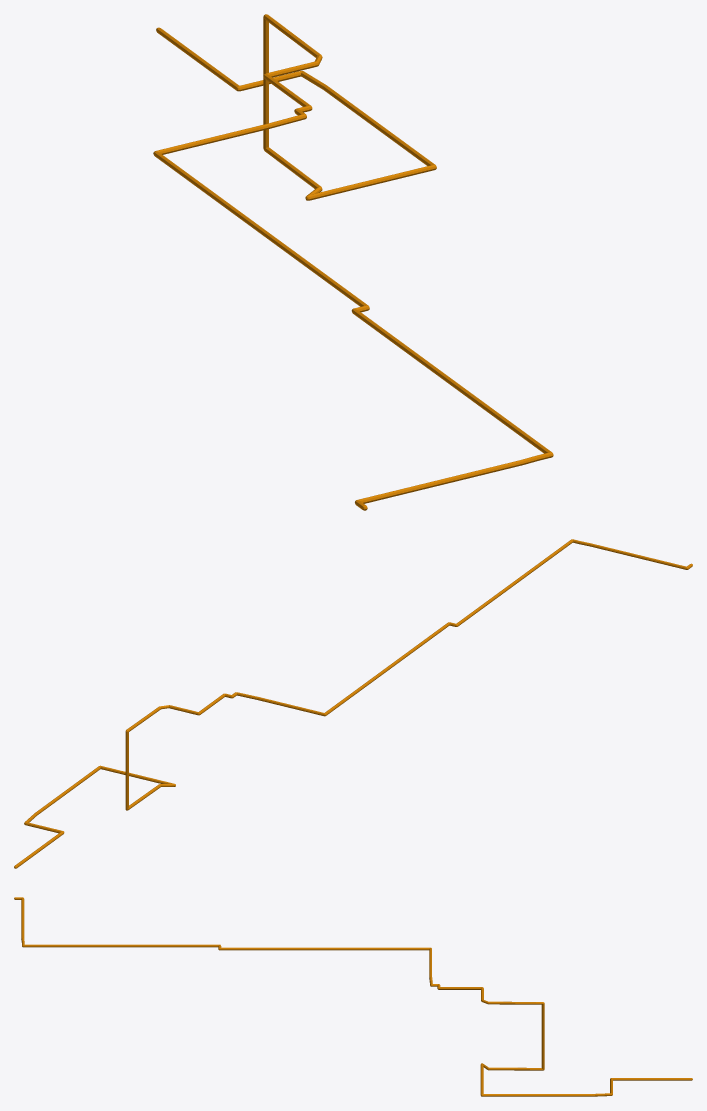
3 views of the same model, one above another, from view 1: azimuth 30°, elevation 25°; view 2: azimuth 150°, elevation 25°; view 3: azimuth 270°, elevation 25° (orthographic). The views are drawn at different scales.
Bounding box in the file's own units: 2147 × 520 × 4668.
